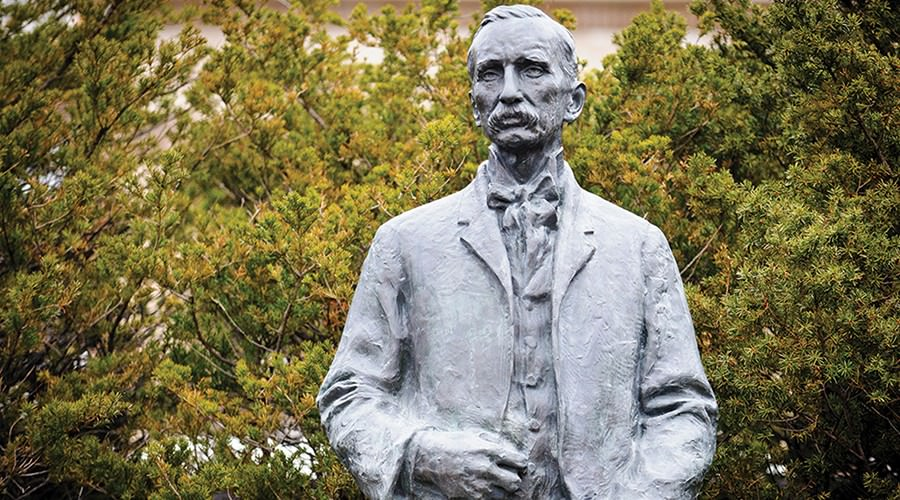person-like: (311, 2, 725, 500)
